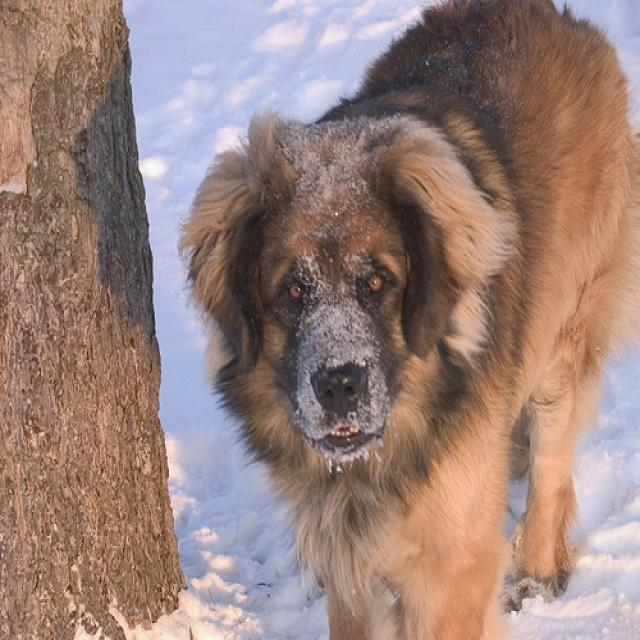dog-leonberger: (165, 2, 637, 637)
